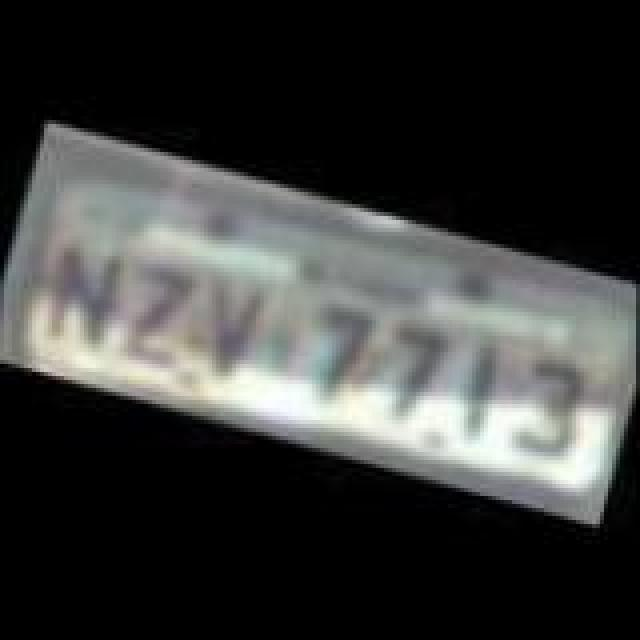1: (442, 324, 510, 444)
3: (502, 346, 594, 462)
7: (284, 288, 372, 420), (362, 306, 446, 426)
N: (34, 232, 130, 360)
V: (180, 262, 264, 382)
Z: (110, 244, 190, 360)
